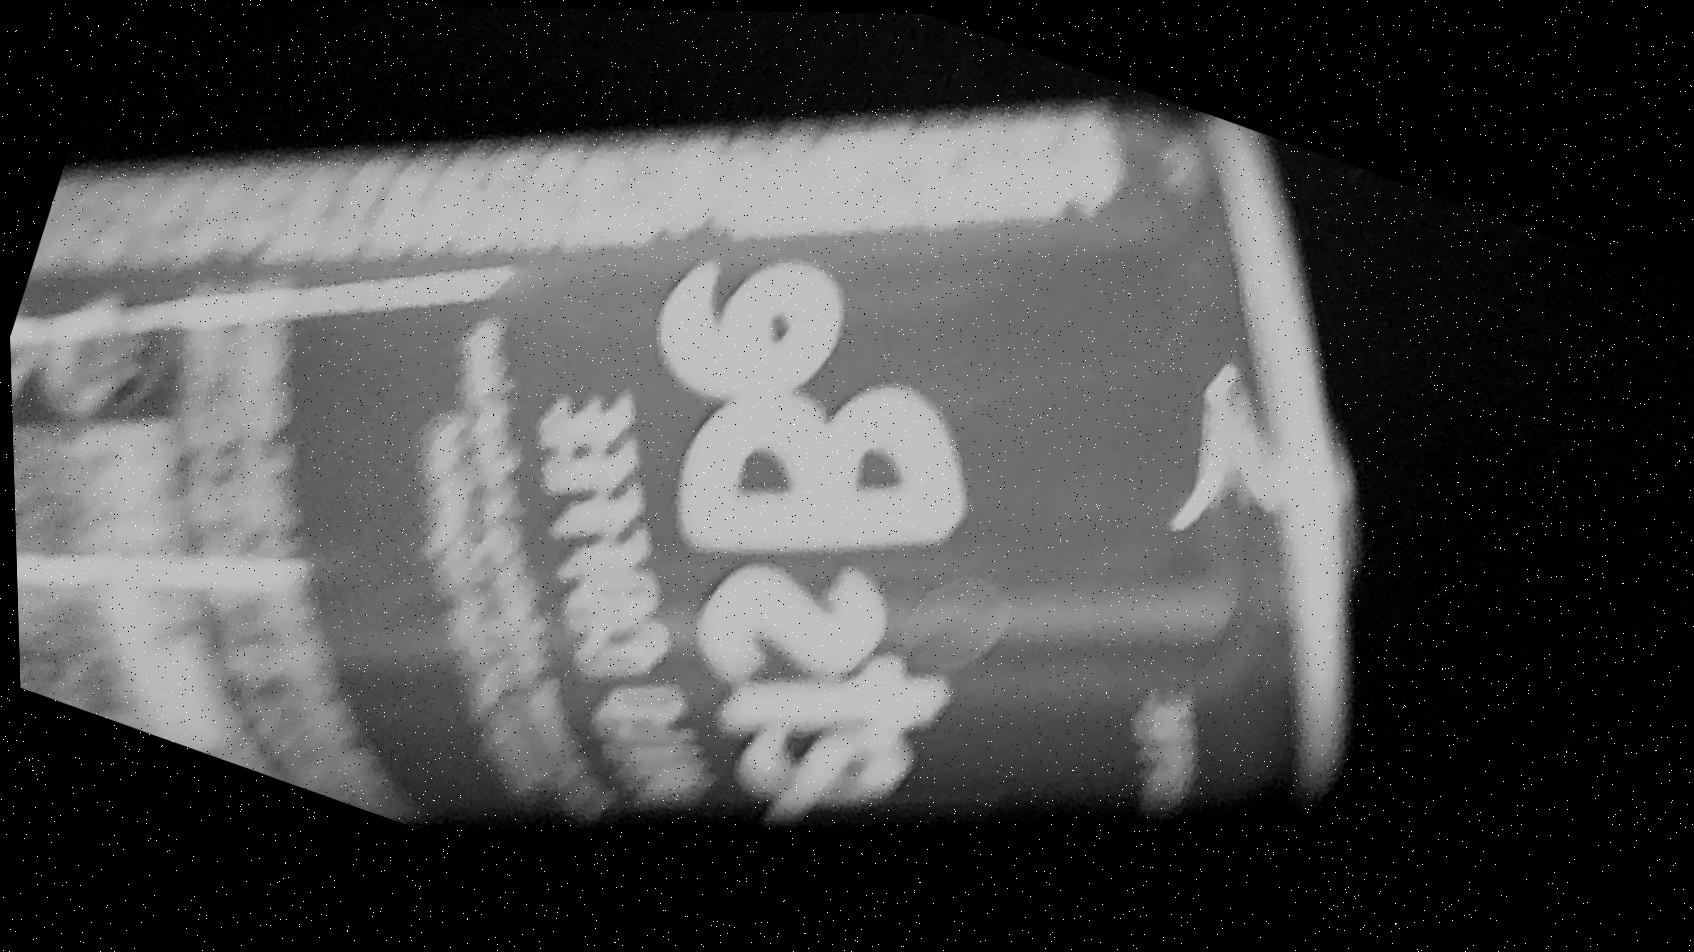letsbe: (0, 0, 1532, 952)
